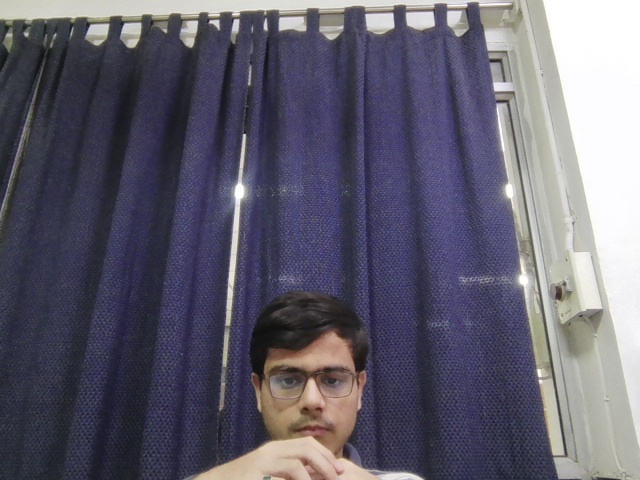face: (250, 292, 370, 440)
